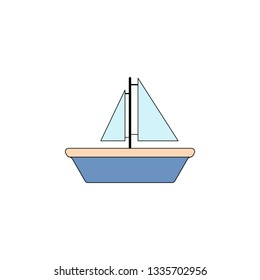boat: (63, 72, 196, 188)
